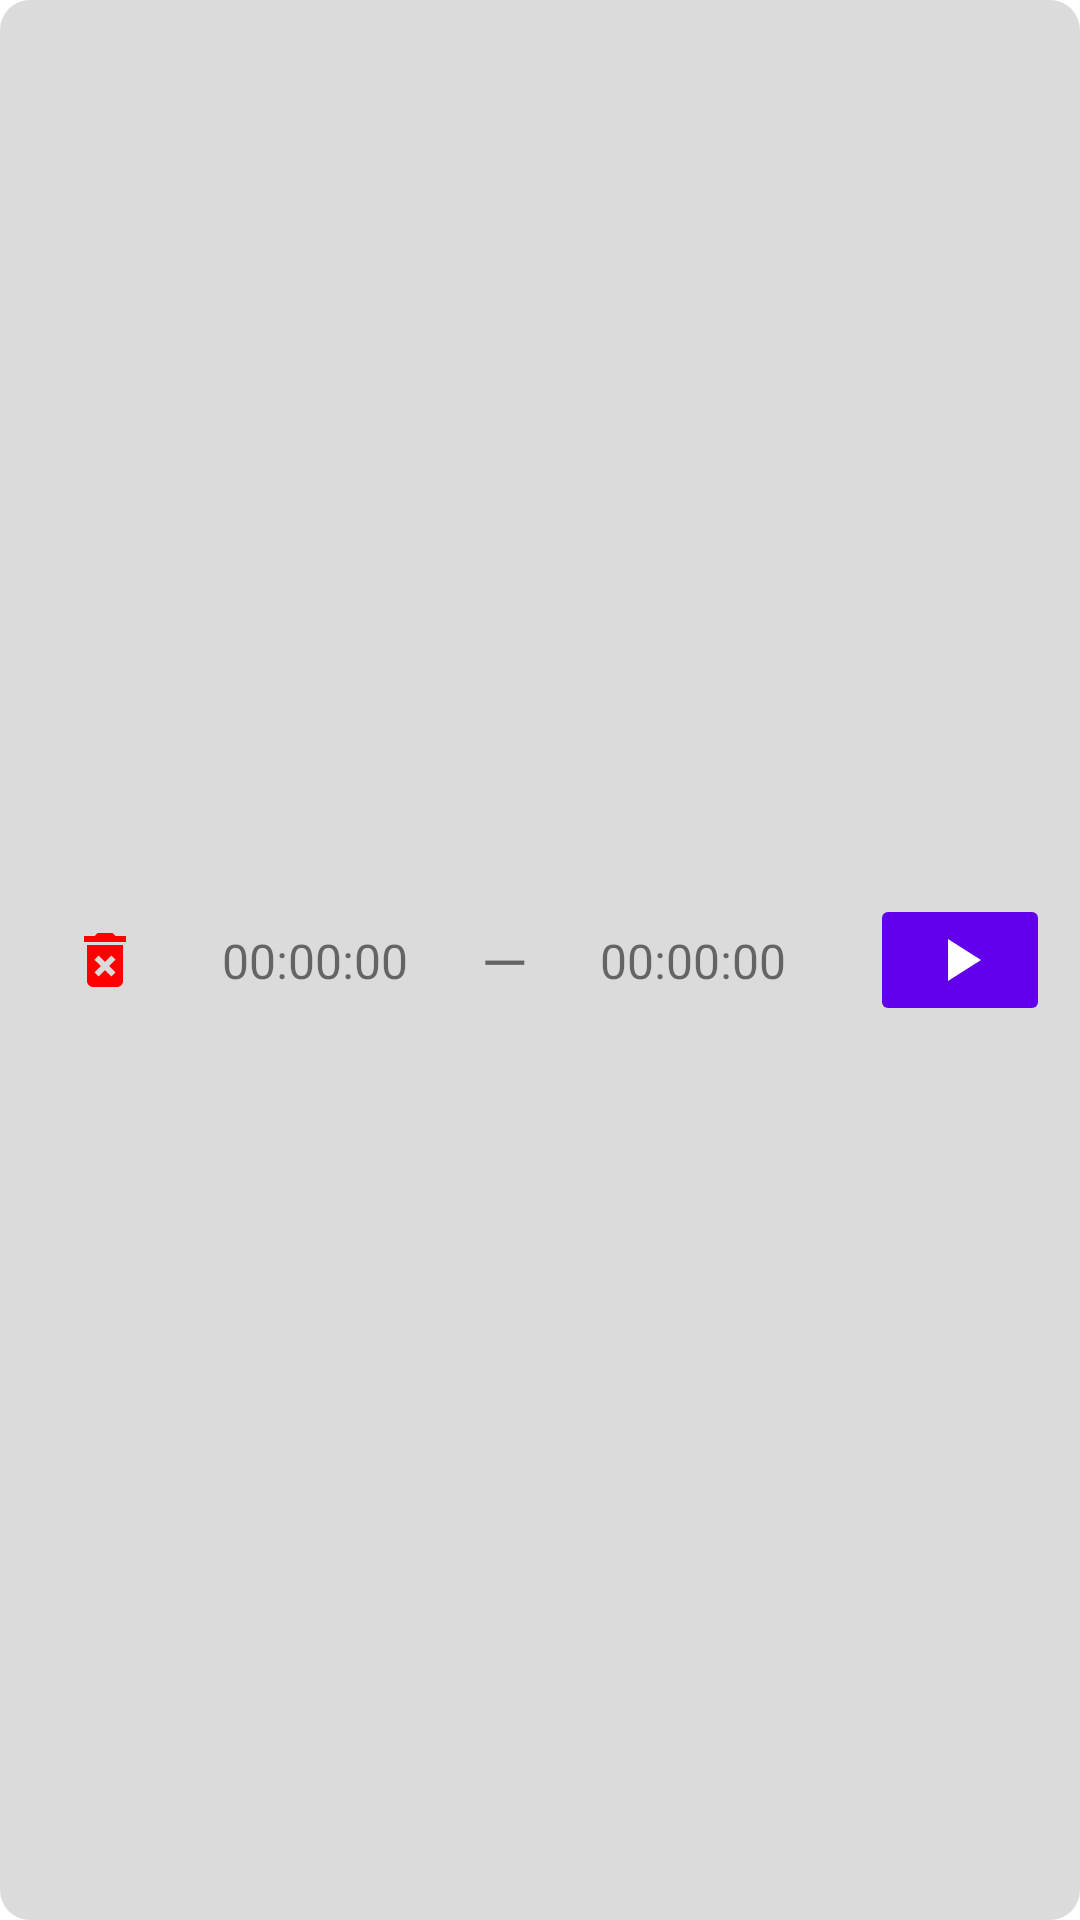

Icon click points for this 1080*1920 phone screenshot, format (x,y):
delete forever: (105,960)
play arrow: (960,960)
